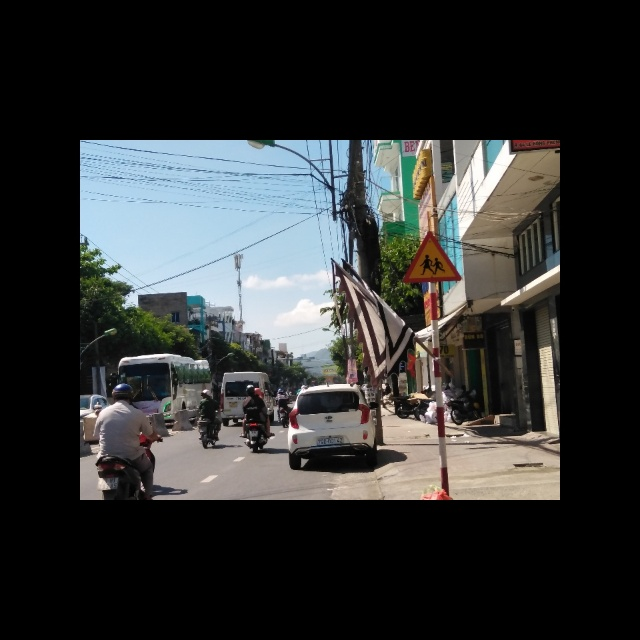Trẻ em ngang qua: (397, 229, 460, 284)
